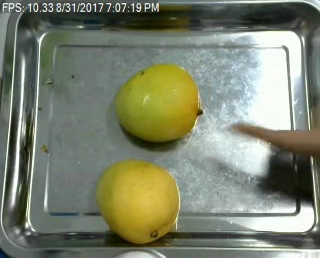Mango: (94, 159, 179, 241), (115, 62, 202, 141)
